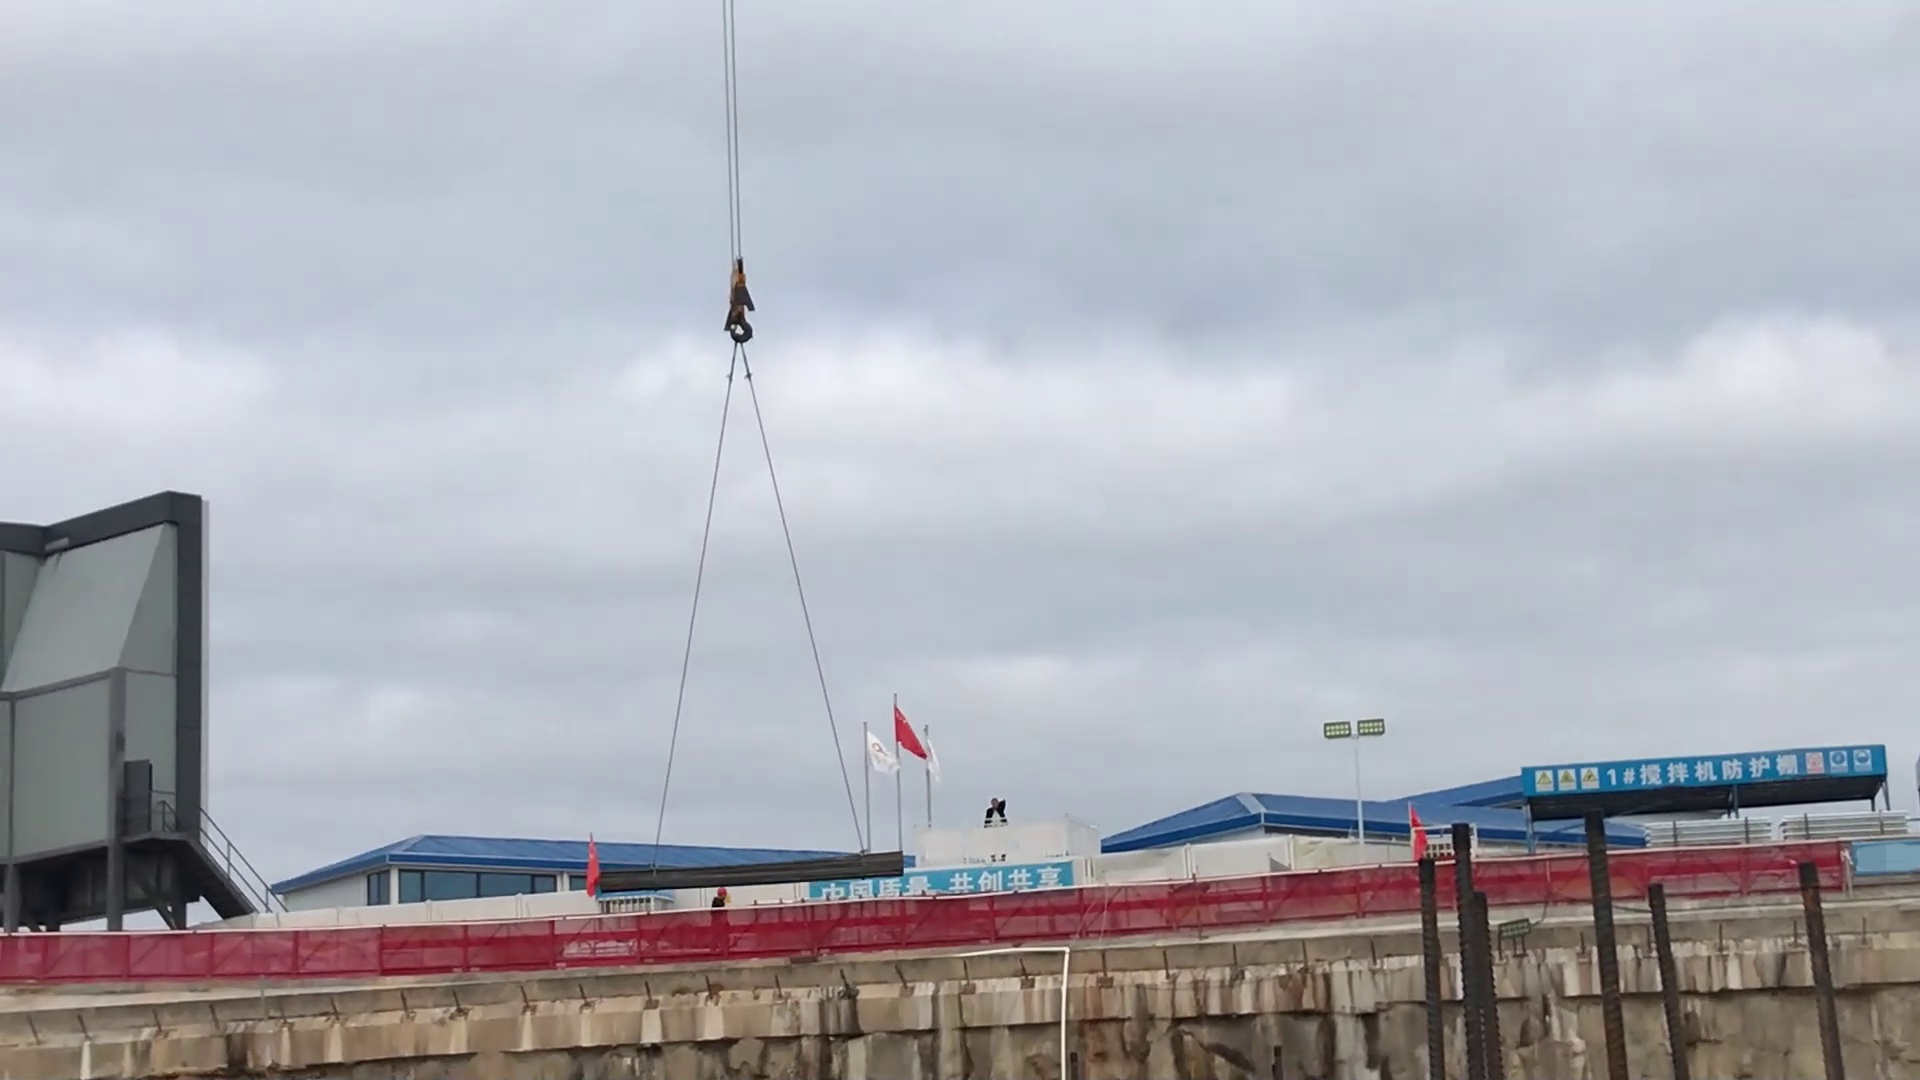fence: (1, 836, 1862, 1009)
hook: (707, 255, 771, 355)
rebar: (582, 843, 913, 907)
slogan: (815, 857, 1081, 909)
